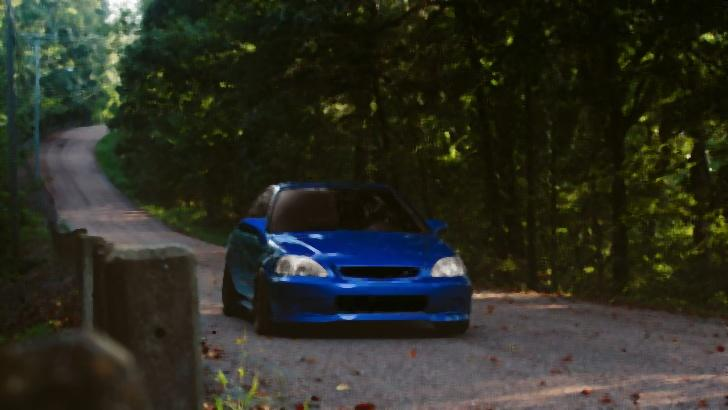Car hood: (263, 235, 456, 272)
Driver-s door - -F-R-: (228, 179, 277, 318)
Front bumper: (260, 273, 474, 333)
Headlight - -L-: (430, 255, 469, 280)
Headlight - -R-: (274, 253, 328, 280)
Side bumper - -R-: (228, 279, 261, 321)
Side mirror - -L-: (421, 218, 450, 238)
Side mirror - -R-: (239, 215, 270, 240)
